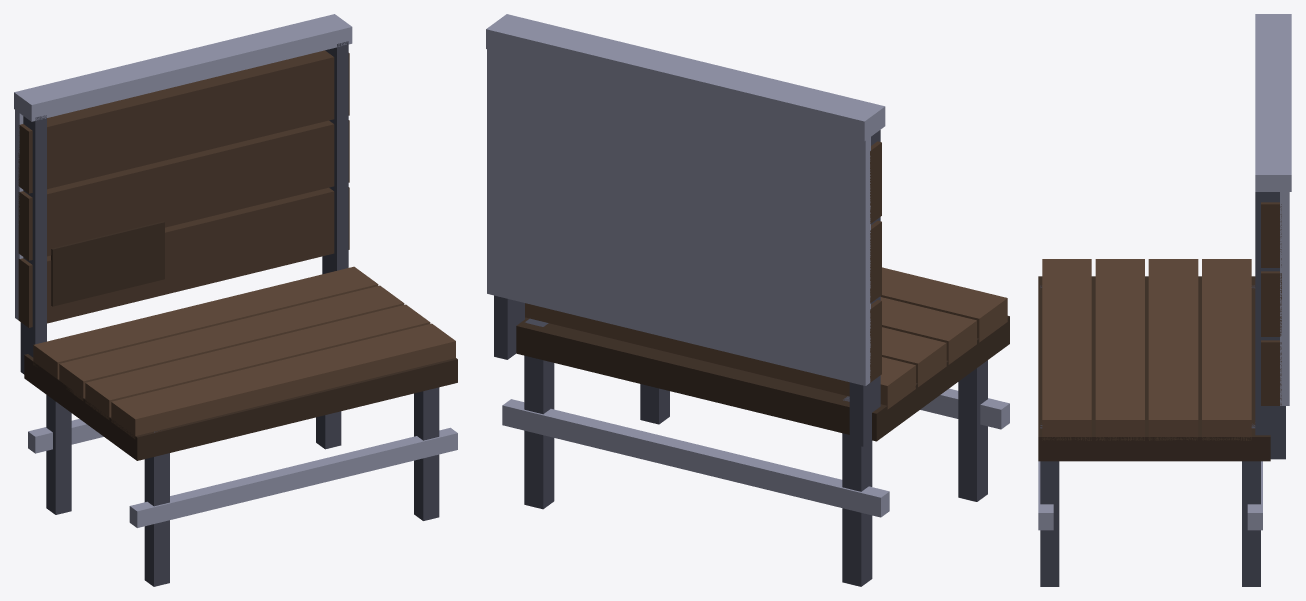
The model's file is CMU3DInheritedStructureRMCCouchMidBrownCloud.glb.
3 views of the same model, side by side, from view 1: azimuth 30°, elevation 25°; view 2: azimuth 150°, elevation 25°; view 3: azimuth 270°, elevation 25° (orthographic). The views are drawn at different scales.
Parts seen in each view (by area): view 1: front wood back panel 2, front wood back panel 1, front wood back panel 0, wood seat board 0, silver top rail, seat structural frame, wood seat board 1, wood seat board 2, wood seat board 3, continuous under-seat rail -0.29, small original wood seam, back support -0.47 (+7 smaller); view 2: rear sheet metal backing, seat structural frame, silver top rail, continuous under-seat rail 0.26, wood seat board 3, wood seat board 0, short steel leg (0.42, 0.25), short steel leg (-0.42, 0.25), short steel leg (-0.42, -0.28), wood seat board 1, wood seat board 2, back support -0.47 (+6 smaller); view 3: seat structural frame, wood seat board 2, wood seat board 1, wood seat board 3, wood seat board 0, silver top rail, back support 0.47, rear sheet metal backing, short steel leg (0.42, -0.28), short steel leg (0.42, 0.25), front wood back panel 1, front wood back panel 0 (+3 smaller).
Boxes of the visible parts, bbox=[...] form: front wood back panel 2: bbox=[18, 50, 349, 193]; front wood back panel 1: bbox=[18, 120, 349, 260]; front wood back panel 0: bbox=[18, 187, 349, 327]; wood seat board 0: bbox=[111, 323, 455, 438]; silver top rail: bbox=[14, 14, 352, 121]; seat structural frame: bbox=[24, 354, 457, 460]; wood seat board 1: bbox=[85, 304, 430, 419]; wood seat board 2: bbox=[59, 285, 404, 400]; wood seat board 3: bbox=[33, 266, 378, 379]; continuous under-seat rail -0.29: bbox=[129, 427, 457, 527]; small original wood seam: bbox=[51, 221, 164, 306]; back support -0.47: bbox=[20, 115, 46, 374]; rear sheet metal backing: bbox=[487, 49, 870, 385]; seat structural frame: bbox=[516, 316, 1009, 441]; silver top rail: bbox=[486, 14, 885, 141]; continuous under-seat rail 0.26: bbox=[502, 399, 889, 517]; wood seat board 3: bbox=[525, 303, 915, 409]; wood seat board 0: bbox=[880, 267, 1007, 342]; short steel leg (0.42, 0.25): bbox=[524, 318, 554, 509]; short steel leg (-0.42, 0.25): bbox=[842, 396, 872, 586]; short steel leg (-0.42, -0.28): bbox=[958, 360, 987, 501]; wood seat board 1: bbox=[880, 297, 976, 364]; wood seat board 2: bbox=[882, 327, 946, 386]; back support -0.47: bbox=[849, 130, 880, 446]; seat structural frame: bbox=[1038, 276, 1270, 461]; wood seat board 2: bbox=[1148, 259, 1198, 440]; wood seat board 1: bbox=[1095, 259, 1144, 440]; wood seat board 3: bbox=[1202, 259, 1251, 440]; wood seat board 0: bbox=[1042, 259, 1091, 440]; silver top rail: bbox=[1255, 14, 1291, 191]; back support 0.47: bbox=[1255, 192, 1285, 459]; rear sheet metal backing: bbox=[1280, 185, 1289, 405]; short steel leg (0.42, -0.28): bbox=[1040, 425, 1059, 586]; short steel leg (0.42, 0.25): bbox=[1242, 423, 1260, 586]; front wood back panel 1: bbox=[1261, 271, 1281, 336]; front wood back panel 0: bbox=[1261, 340, 1281, 405].
Bounding box in the file's own units: 1 × 1.22 × 0.665.
Materials: 6 (1 with a texture image).
